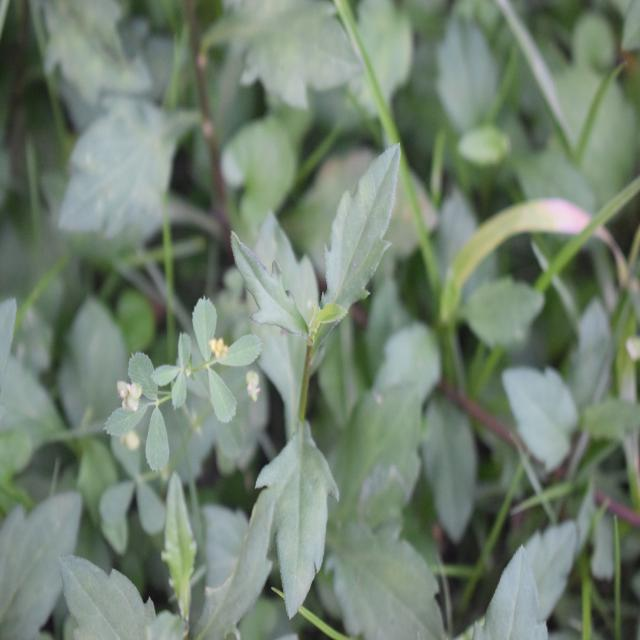Indian aster: (242, 135, 418, 608)
